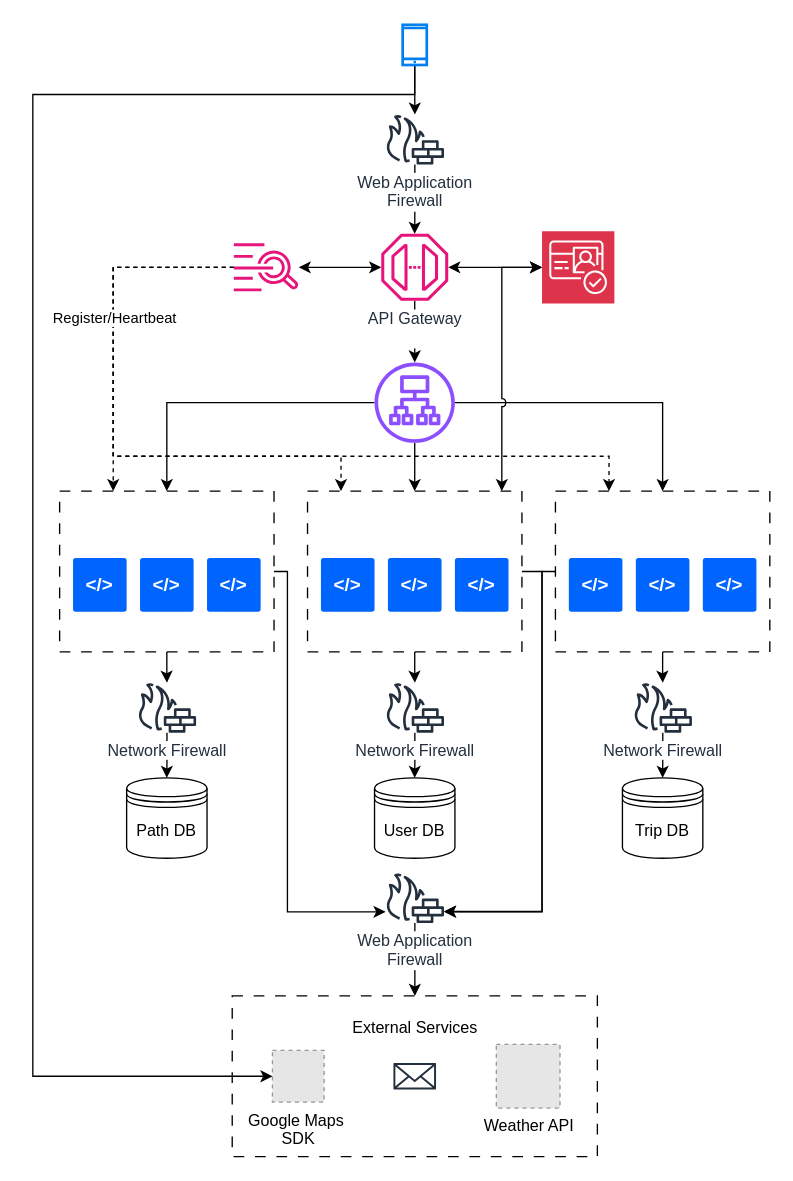
The diagram is 793 pixels wide and 1181 high, and some of its shapes have lost their labels. Grey dashed boxes stand in for pictures. The shapes that lost their labels are listed below. From the top down, each one's box as (x1, y1, x2, y2) in pixels, then its label:
(401, 23, 427, 66): Mobile BBP App
(233, 243, 298, 291): Service Registry and Discovery
(541, 230, 614, 304): Identity Provider (IdP)
(374, 362, 454, 442): Load Balancer
(58, 490, 274, 652): Path Service Software Instances
(306, 490, 522, 652): User Service Software Instances
(554, 490, 770, 652): Trip Service Software Instances
(393, 1062, 435, 1089): Email Delivery Service
